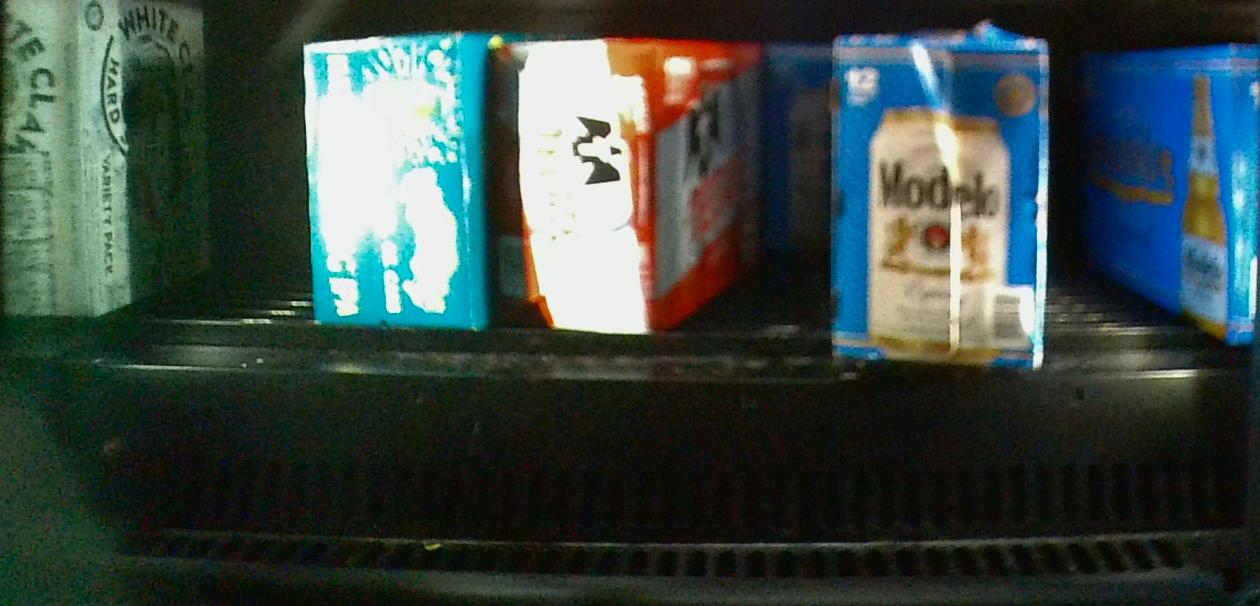bottle: (833, 40, 1042, 369), (488, 40, 679, 334), (297, 39, 488, 328), (1082, 52, 1249, 348), (762, 43, 833, 255)
